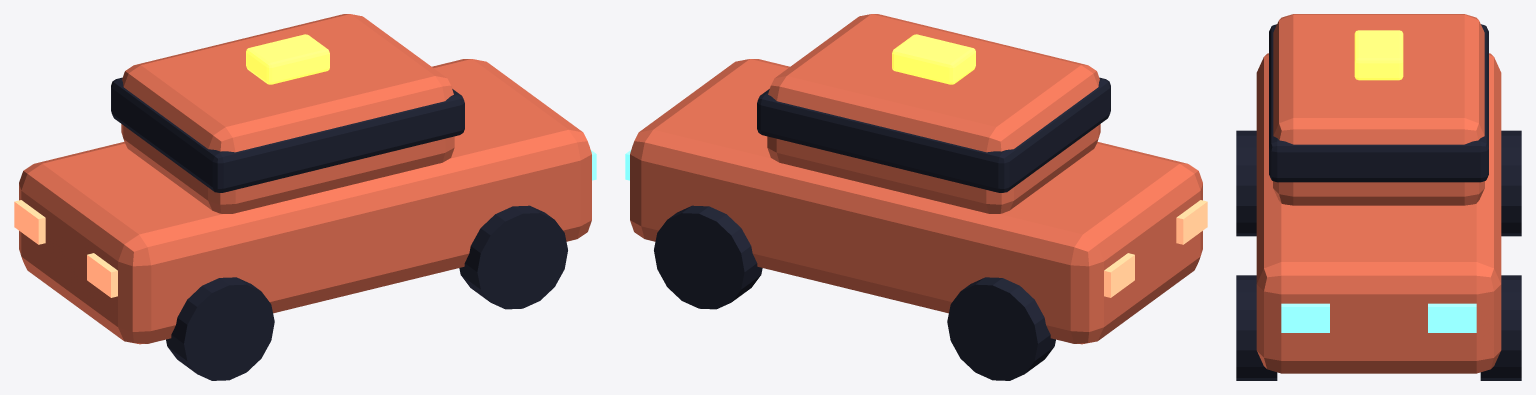
The model's file is toy_car.glb.
3 renders of one model, left to right at view 1: azimuth 30°, elevation 25°; view 2: azimuth 150°, elevation 25°; view 3: azimuth 270°, elevation 25°, orthographic.
Parts seen in each view (by area): view 1: body, cabin, glass, wheel-1-1, wheel1-1, roof, tail1, tail-1; view 2: body, cabin, glass, wheel-11, wheel11, roof, tail-1, tail1; view 3: body, cabin, glass, wheel1-1, wheel11, roof, wheel-1-1, wheel-11, head-1, head1.
Part boxes in pixels (x1,y1,x2,y2): body: (19,59,591,344); cabin: (121,14,454,213); glass: (111,77,464,192); wheel-1-1: (166,277,274,380); wheel1-1: (459,205,567,309); roof: (246,34,329,84); tail1: (14,200,45,244); tail-1: (87,253,117,297); body: (630,59,1202,344); cabin: (767,14,1100,213); glass: (757,77,1110,192); wheel-11: (947,277,1055,380); wheel11: (654,205,762,309); roof: (892,34,975,84); tail-1: (1176,200,1207,244); tail1: (1104,253,1134,297); body: (1256,53,1501,373); cabin: (1273,14,1484,205); glass: (1269,24,1488,182); wheel1-1: (1236,275,1277,380); wheel11: (1480,275,1521,380); roof: (1354,30,1403,80); wheel-1-1: (1236,130,1256,236); wheel-11: (1501,130,1521,236); head-1: (1281,303,1329,332); head1: (1428,303,1476,332).
Bounding box in the file's own units: 1.39 × 0.68 × 0.7.
